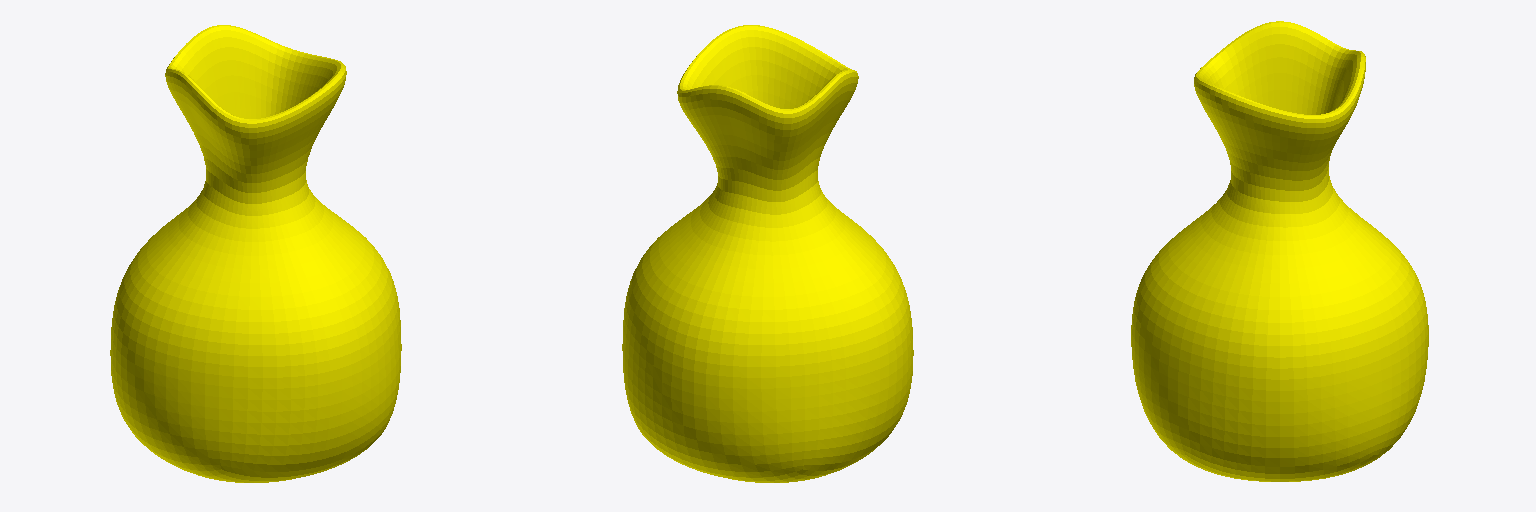
The model's file is pouch_jagung.obj.
3 renders of one model, left to right at view 1: azimuth 30°, elevation 25°; view 2: azimuth 150°, elevation 25°; view 3: azimuth 270°, elevation 25°, orthographic.
Parts seen in each view (by area): view 1: Cube.001; view 2: Cube.001; view 3: Cube.001.
Boxes of the visible parts, x1,y1,x2,y2 form: Cube.001: [110, 25, 401, 482]; Cube.001: [622, 25, 913, 482]; Cube.001: [1131, 21, 1428, 481].
Size of the model in its own units: 0.2653 by 0.3925 by 0.2653.